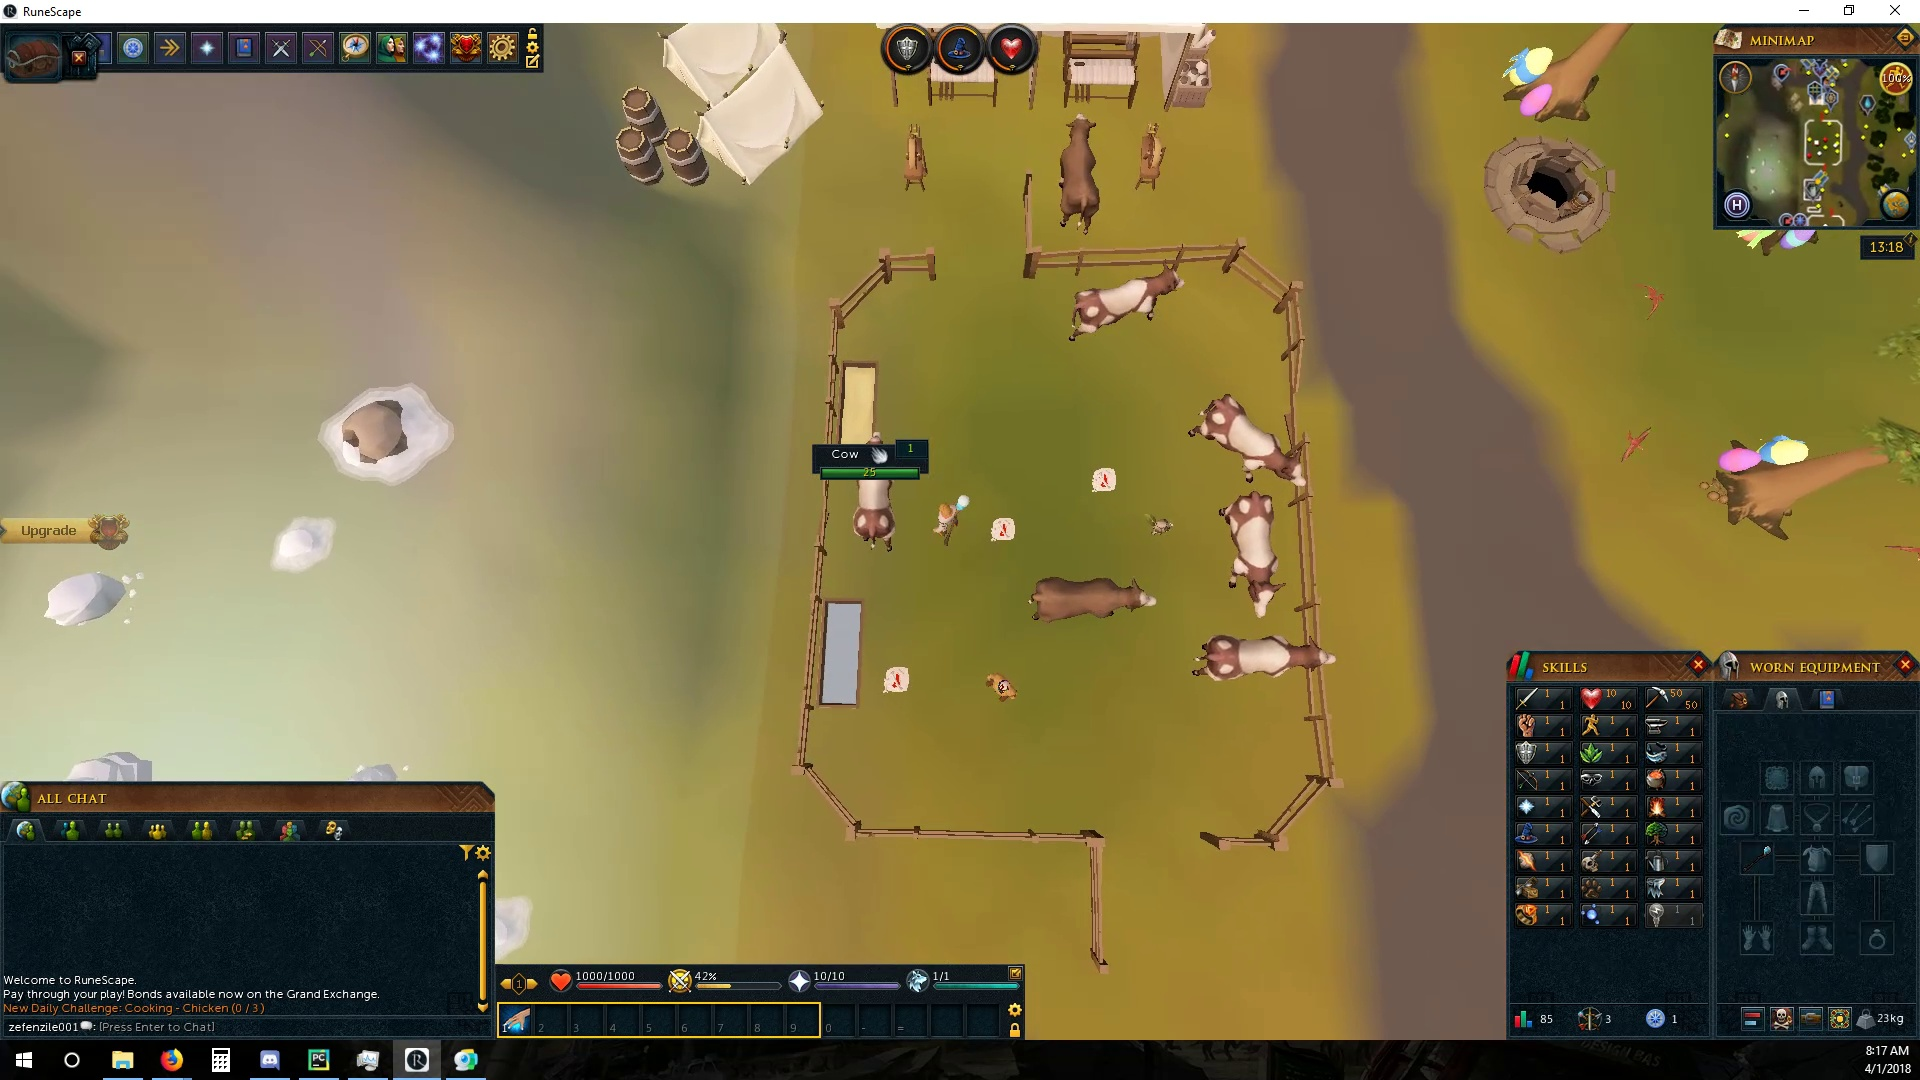cow: (1189, 394, 1315, 491), (1065, 258, 1191, 347), (1216, 489, 1284, 622), (1189, 633, 1340, 682), (1052, 111, 1102, 240), (1026, 576, 1158, 622), (852, 480, 901, 550)
cow_drop: (1087, 465, 1124, 495), (982, 517, 1018, 545), (877, 665, 910, 694)
